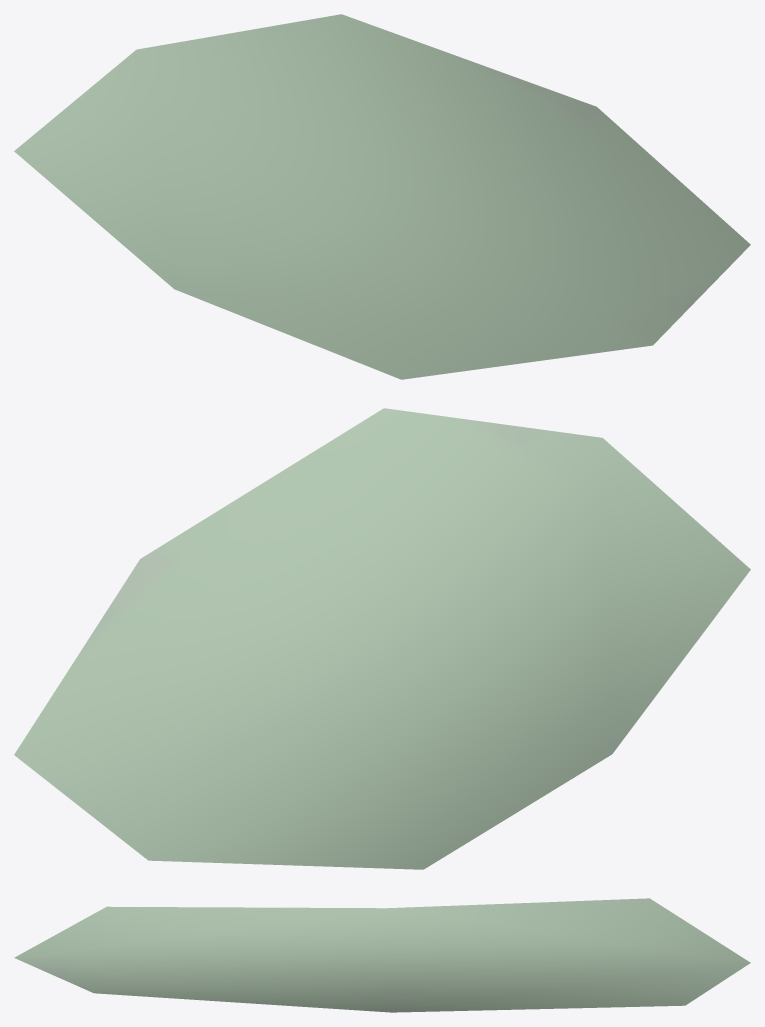
File: TROLLHOLE02_HOLECAP85.fbx
The picture shows the model from 3 angles, top to bottom: view 1: azimuth 30°, elevation 25°; view 2: azimuth 150°, elevation 25°; view 3: azimuth 270°, elevation 25°; orthographic projection. The views are drawn at different scales.
Visible parts, largest first — view 1: TROLLHOLE02_HOLECAP85; view 2: TROLLHOLE02_HOLECAP85; view 3: TROLLHOLE02_HOLECAP85.
Boxes of the visible parts, x1=… form: TROLLHOLE02_HOLECAP85: x1=14, y1=14, x2=750, y2=379; TROLLHOLE02_HOLECAP85: x1=14, y1=408, x2=750, y2=869; TROLLHOLE02_HOLECAP85: x1=14, y1=898, x2=750, y2=1012.
Bounding box in the file's own units: 8753 × 1649 × 16544.
Materials: 1 (1 with a texture image).
